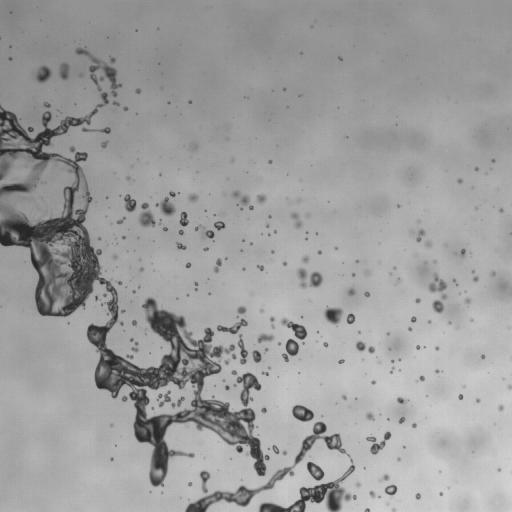droplet: (366, 431, 390, 454), (296, 268, 322, 288), (427, 273, 446, 299), (156, 390, 184, 407), (138, 202, 156, 227), (155, 197, 176, 216), (282, 338, 299, 361), (324, 306, 343, 325), (292, 405, 314, 421), (307, 462, 324, 480), (36, 65, 51, 82), (124, 194, 136, 212), (59, 63, 69, 79), (432, 300, 444, 313), (257, 333, 274, 342), (385, 484, 397, 496), (179, 211, 188, 226), (416, 229, 425, 241), (252, 350, 261, 362), (256, 194, 266, 204), (214, 221, 225, 230), (346, 313, 355, 323), (237, 305, 246, 314), (397, 397, 408, 404), (188, 194, 198, 201), (176, 242, 186, 249), (366, 412, 374, 420), (271, 445, 279, 453), (380, 474, 389, 481), (132, 341, 138, 351), (302, 255, 309, 263), (347, 288, 355, 295), (101, 141, 108, 147), (117, 217, 124, 223), (464, 297, 470, 304), (169, 191, 175, 197), (425, 241, 431, 247), (410, 316, 416, 322), (418, 375, 424, 381), (398, 417, 404, 423), (43, 102, 50, 107), (110, 57, 115, 63), (113, 101, 119, 106), (257, 265, 263, 270), (364, 291, 369, 297), (498, 405, 503, 411), (261, 407, 266, 413), (415, 493, 420, 499), (461, 249, 465, 256), (135, 88, 140, 93), (185, 262, 190, 267), (473, 276, 478, 281), (415, 298, 420, 303), (224, 359, 229, 364), (132, 320, 136, 326), (192, 145, 197, 149), (178, 230, 183, 234), (365, 270, 369, 275), (491, 271, 495, 276), (339, 359, 344, 363), (435, 369, 440, 373), (231, 370, 236, 374), (225, 385, 229, 390), (458, 394, 462, 399), (364, 508, 370, 511), (123, 106, 127, 110), (126, 176, 130, 180), (458, 179, 462, 183), (499, 208, 503, 212), (163, 227, 167, 231), (317, 250, 321, 254), (452, 279, 456, 283), (117, 281, 121, 285), (95, 296, 99, 300), (323, 342, 327, 346), (416, 345, 420, 349), (435, 346, 439, 350), (371, 380, 375, 384), (342, 395, 346, 399), (412, 423, 416, 427), (282, 451, 286, 455), (356, 482, 360, 486), (262, 372, 267, 375), (508, 384, 511, 389), (113, 255, 116, 259), (282, 262, 286, 265), (408, 327, 411, 331), (265, 348, 268, 352), (476, 398, 479, 402), (475, 167, 478, 170), (158, 221, 161, 224), (140, 268, 143, 271), (260, 309, 263, 312), (130, 338, 133, 341), (481, 355, 484, 358), (391, 360, 394, 363), (188, 482, 191, 485), (439, 492, 442, 495), (392, 508, 395, 511), (9, 57, 11, 60), (492, 159, 494, 162), (269, 160, 271, 163), (268, 215, 271, 217), (306, 214, 309, 216), (266, 224, 269, 226), (204, 248, 207, 250), (195, 282, 197, 285), (103, 294, 106, 296), (428, 320, 430, 323), (151, 407, 154, 409), (110, 424, 113, 426), (110, 458, 113, 460), (397, 458, 400, 460), (339, 57, 341, 59), (398, 204, 400, 206), (122, 236, 124, 238), (335, 246, 337, 248), (356, 260, 358, 262), (278, 342, 280, 344), (498, 469, 500, 471)
ligament: (0, 48, 263, 485), (185, 421, 356, 511), (280, 318, 307, 341), (217, 318, 247, 333), (231, 191, 253, 210), (237, 334, 247, 364), (195, 225, 214, 239), (355, 341, 375, 353), (82, 127, 110, 133), (291, 212, 301, 228), (213, 258, 221, 272), (369, 491, 380, 498), (270, 316, 274, 327), (390, 366, 394, 372)
